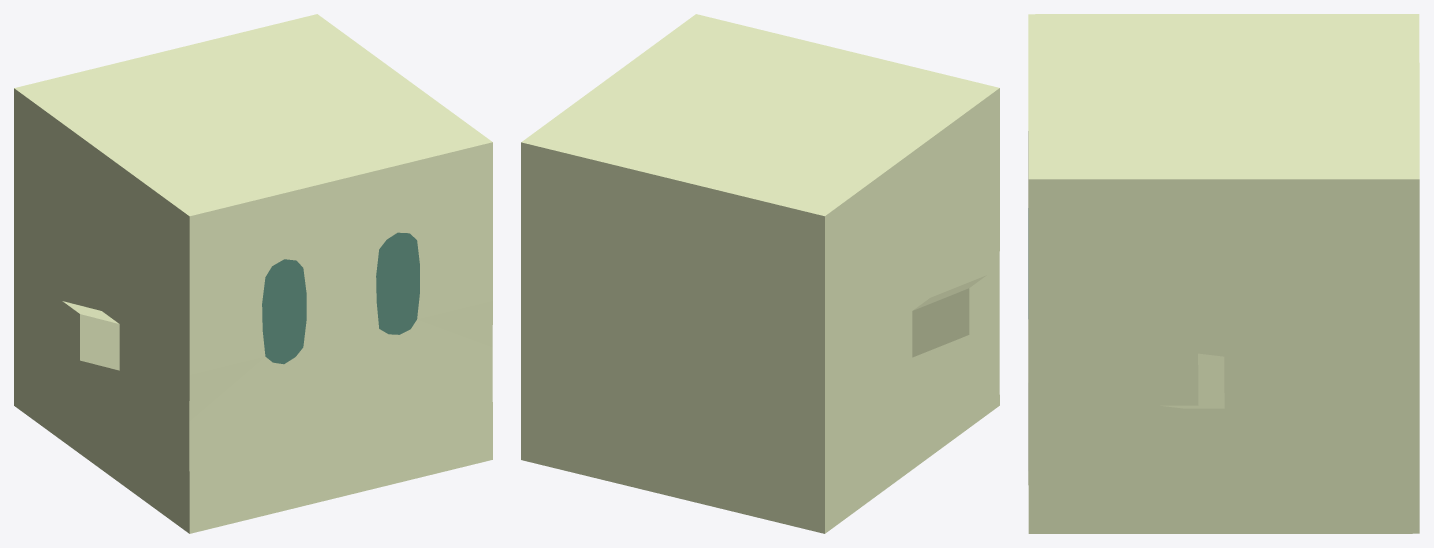
File: cube_minion.dae
3 renders of one model, left to right at view 1: azimuth 30°, elevation 25°; view 2: azimuth 150°, elevation 25°; view 3: azimuth 270°, elevation 25°, orthographic. The views are drawn at different scales.
Parts seen in each view (by area): view 1: Cube; view 2: Cube; view 3: Cube.
Part boxes in pixels (bbox=[...]): Cube: bbox=[14, 14, 492, 533]; Cube: bbox=[521, 14, 999, 533]; Cube: bbox=[1028, 14, 1419, 533].
Bounding box in the file's own units: 2.6 × 2 × 2.
2 materials, 2 textured.
